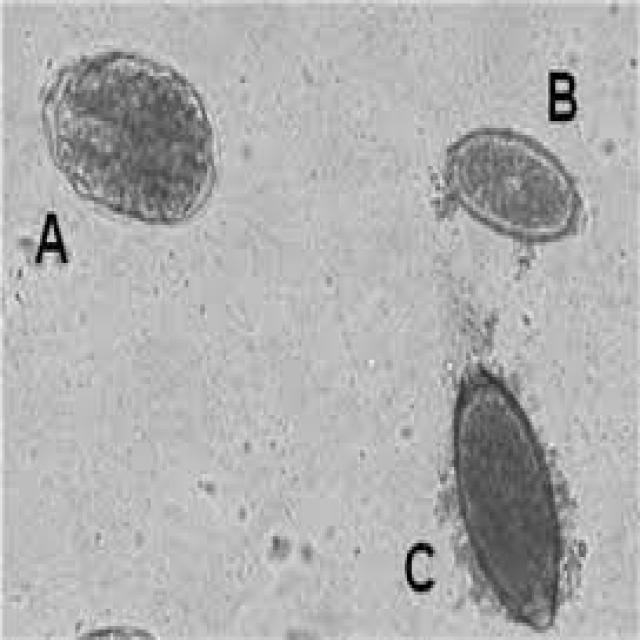Ancylostoma Spp: (35, 38, 226, 235)
Trichuris Trichiura: (444, 346, 576, 636), (436, 112, 596, 262)
